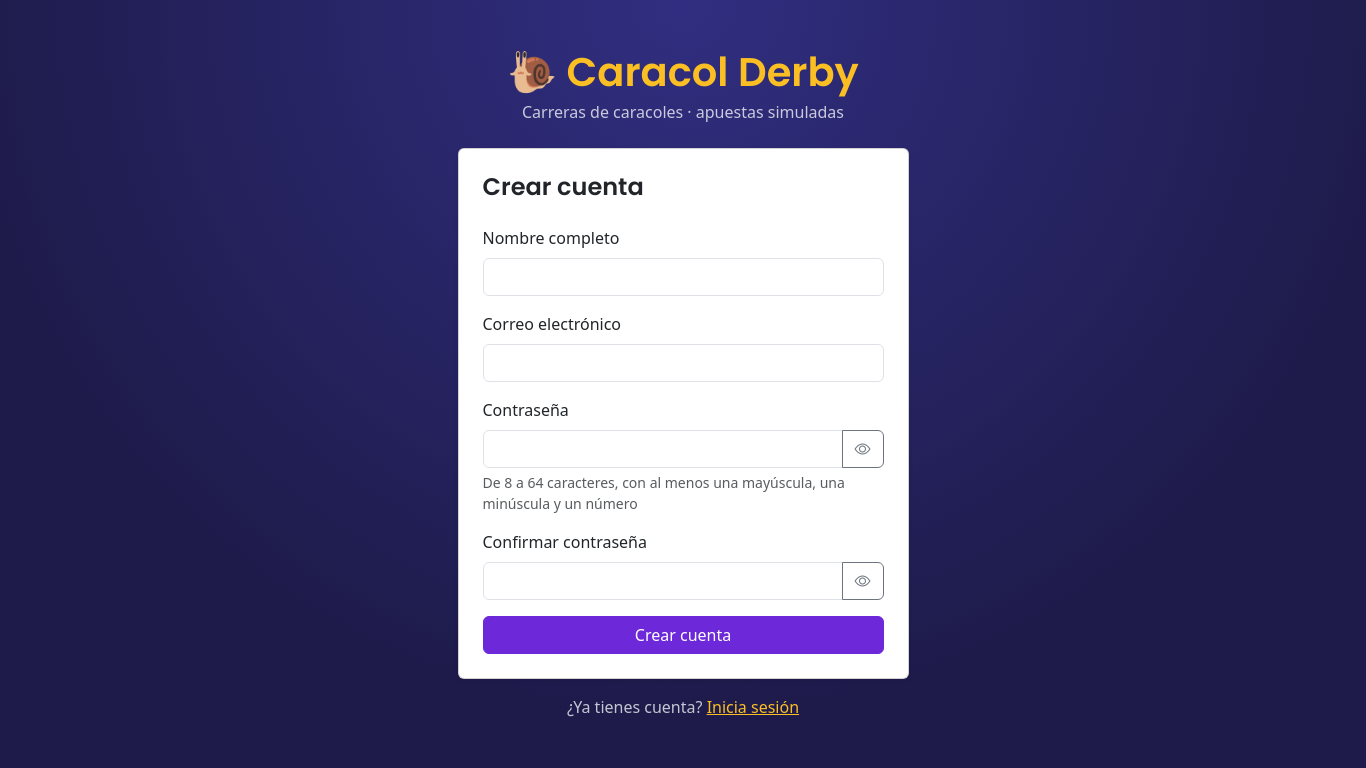
navegación y sesión › el registro muestra los errores al enviar y los quita en vivo al corregir
Click the button "Crear cuenta" at [683, 635], box x1=482 y1=616 x2=884 y2=654
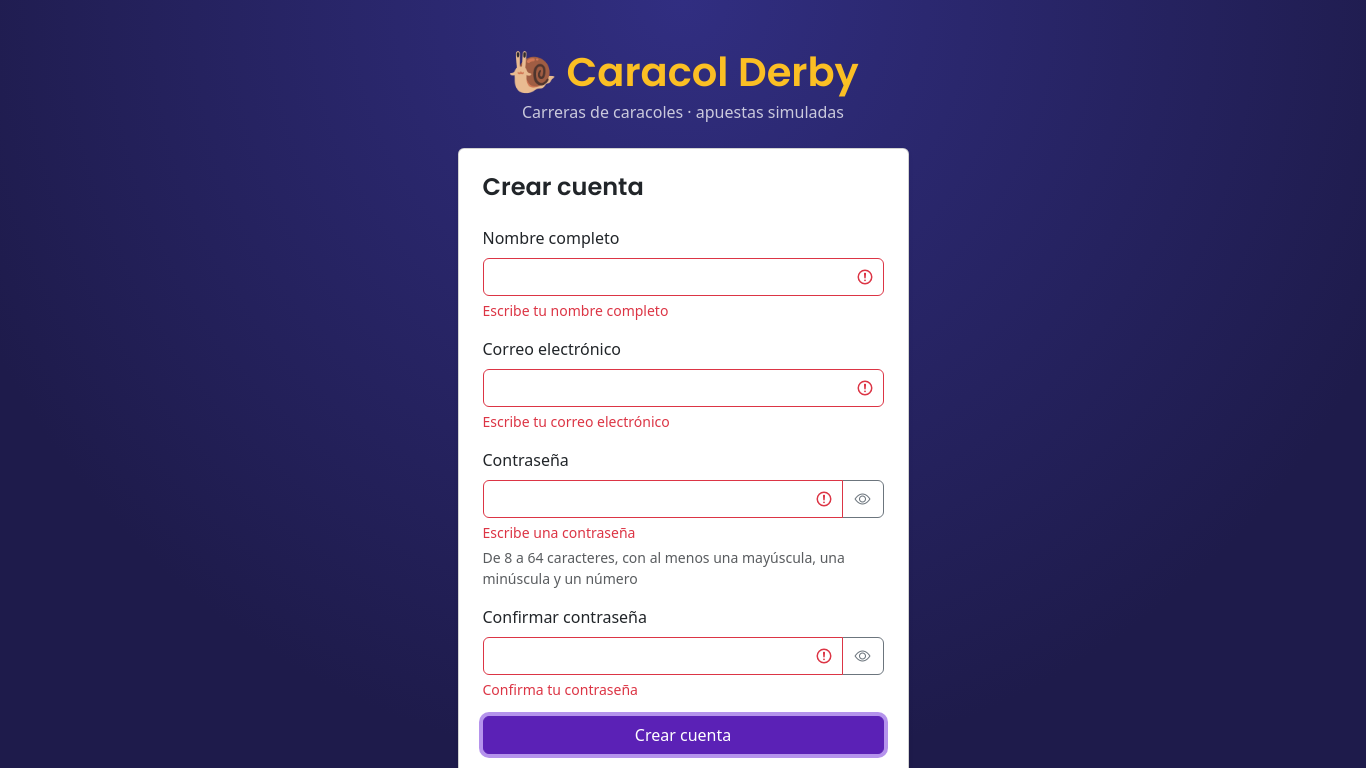
Expected: the text "Escribe tu nombre completo" is shown, x1=482 y1=301 x2=668 y2=320
Type "Ana López" into the field labelled "Nombre completo" at [683, 277], box x1=482 y1=258 x2=884 y2=296
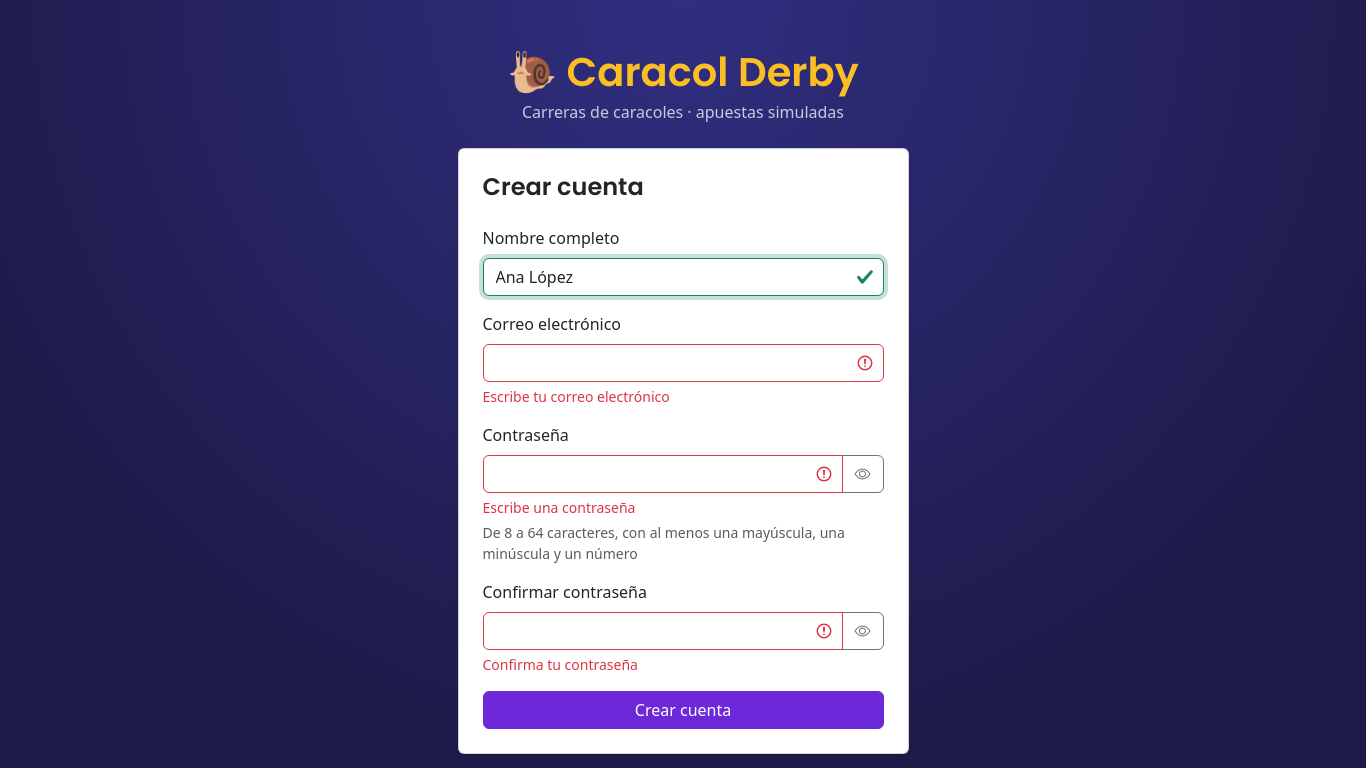
Expected: the text "Escribe tu nombre completo" is gone
